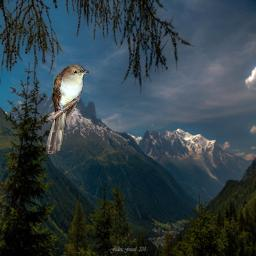Cuckoo: (46, 64, 89, 154)
